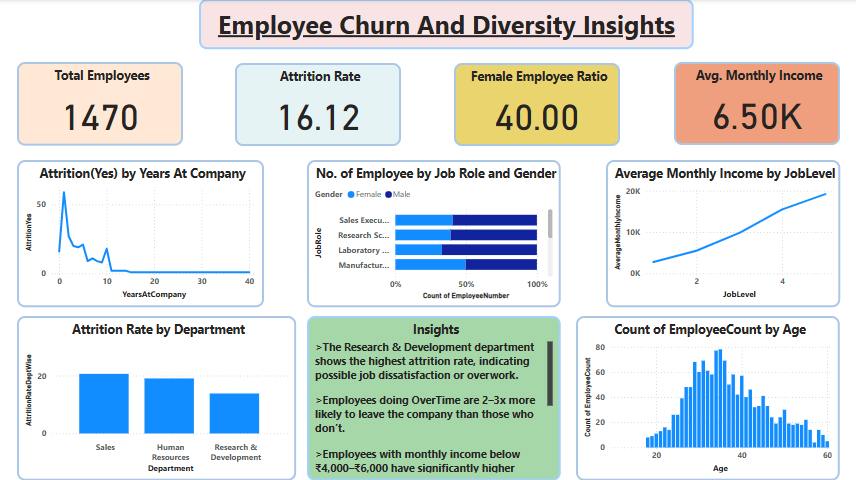

This screenshot's page, from the dashboard's own definition file:
{"tool":"powerbi","page":{"name":"Page 1","canvas":[1280,720],"ordinal":0},"visuals":[{"type":"card","title":"Total Employees","fields":{"Values":["Count(HR-Employee-Attrition.EmployeeNumber)"]},"box":[25.4,94.1,248,125.5],"z":0},{"type":"card","title":"Attrition Rate","fields":{"Values":["HR-Employee-Attrition.AttritionRate"]},"box":[351,95.6,248,124],"z":1000},{"type":"card","title":"Female Employee Ratio","fields":{"Values":["HR-Employee-Attrition.FemaleEmployeeRatio"]},"box":[678.2,95.6,248,124],"z":2000},{"type":"card","title":"Avg. Monthly Income","fields":{"Values":["HR-Employee-Attrition.AverageMonthlyIncome"]},"box":[1006.8,94.1,248,124],"z":3000},{"type":"clusteredColumnChart","title":"Attrition Rate by Department","fields":{"Category":["HR-Employee-Attrition.Department"],"Y":["HR-Employee-Attrition.AttritionRateDept"]},"box":[25.4,473.5,416.8,246.5],"z":4000},{"type":"hundredPercentStackedBarChart","title":"No. of Employee by Job Role and Gender","fields":{"Category":["HR-Employee-Attrition.JobRole"],"Series":["HR-Employee-Attrition.Gender"],"Y":["CountNonNull(HR-Employee-Attrition.EmployeeNumber)"]},"box":[458.6,240.5,379.4,219.6],"z":5000},{"type":"lineChart","title":"Average Monthly Income by JobLevel","fields":{"Category":["HR-Employee-Attrition.JobLevel"],"Y":["HR-Employee-Attrition.AverageMonthlyIncome"]},"box":[905.2,240.5,349.5,219.6],"z":6000},{"type":"clusteredColumnChart","fields":{"Category":["HR-Employee-Attrition.Age"],"Y":["CountNonNull(HR-Employee-Attrition.EmployeeCount)"]},"box":[860.4,473.5,394.4,246.5],"z":7000},{"type":"lineChart","title":"Attrition(Yes) by Years At Company","fields":{"Category":["HR-Employee-Attrition.YearsAtCompany"],"Y":["HR-Employee-Attrition.AttritionYes"]},"box":[25.4,240.5,369,219.6],"z":8000},{"type":"textbox","title":"Insights","box":[459,474,379,246],"z":8001},{"type":"textbox","box":[297.3,0,739.4,74.7],"z":8002}]}

Visuals, with their boxes in screenshot pixels (x1, y1, x2, y2), scaled from the page's 1280x720 canvas onto the 856x480 screenshot:
"Total Employees" card: locate(17, 63, 183, 146)
"Attrition Rate" card: locate(235, 64, 401, 146)
"Female Employee Ratio" card: locate(454, 64, 619, 146)
"Avg. Monthly Income" card: locate(673, 63, 839, 145)
"Attrition Rate by Department" clusteredColumnChart: locate(17, 316, 296, 479)
"No. of Employee by Job Role and Gender" hundredPercentStackedBarChart: locate(307, 160, 560, 307)
"Average Monthly Income by JobLevel" lineChart: locate(605, 160, 839, 307)
clusteredColumnChart - HR-Employee-Attrition.Age x CountNonNull(HR-Employee-Attrition.EmployeeCount): locate(575, 316, 839, 479)
"Attrition(Yes) by Years At Company" lineChart: locate(17, 160, 264, 307)
"Insights" textbox: locate(307, 316, 560, 479)
textbox: locate(199, 0, 693, 50)
